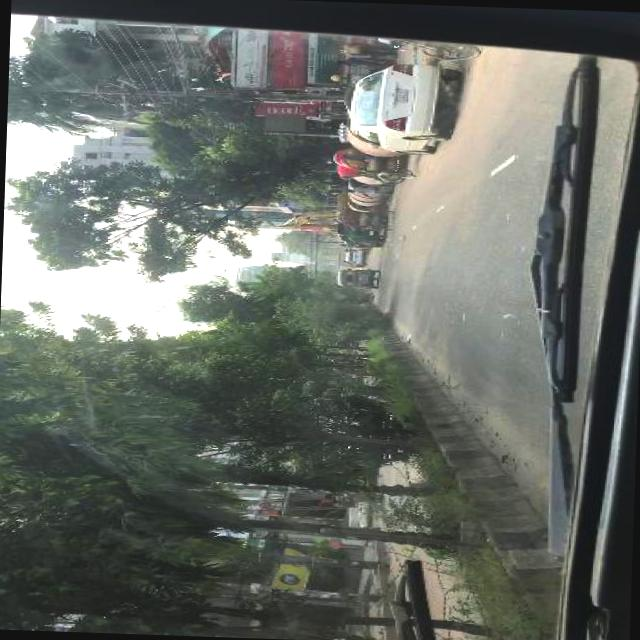car: (349, 59, 454, 154), (335, 226, 382, 246), (347, 248, 362, 263)
motorcycle: (332, 149, 410, 183), (339, 206, 390, 228), (334, 264, 376, 286)
